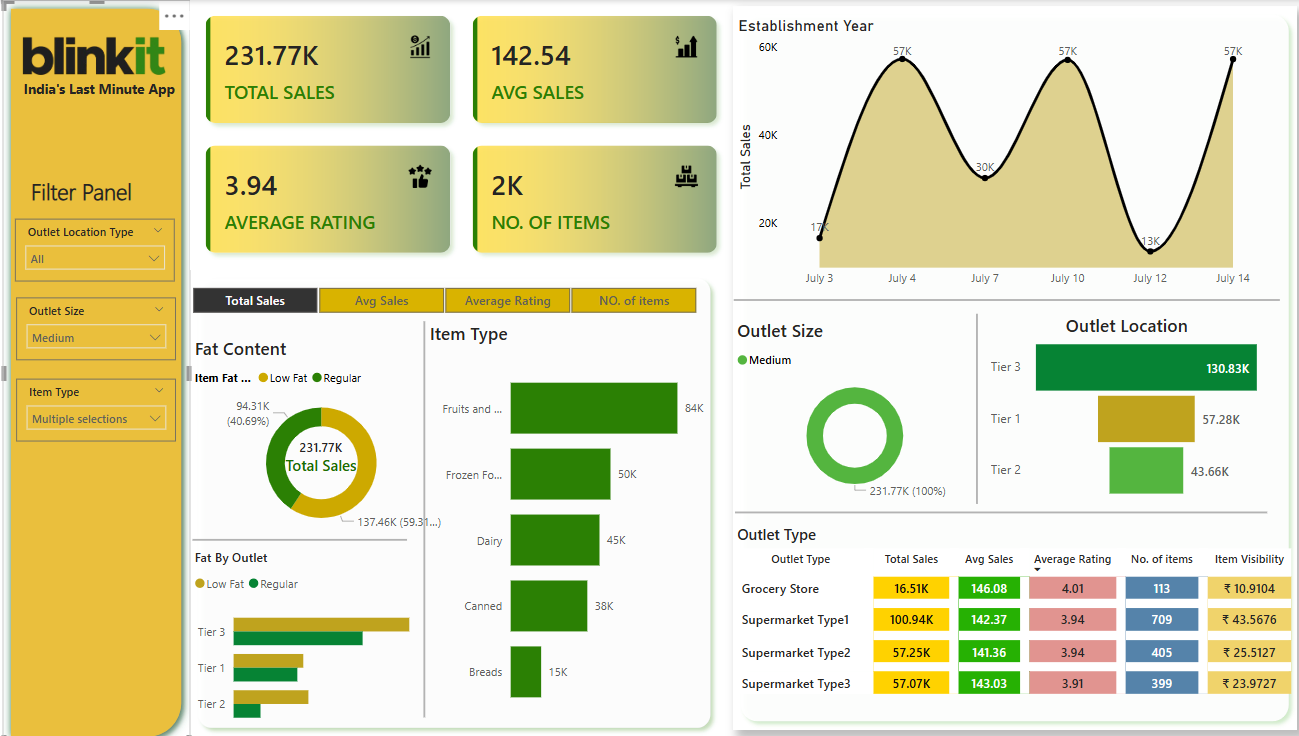

Layout of this report page (visuals, bound fields, positions):
{"tool":"powerbi","page":{"name":"Page 1","canvas":[1400,800],"ordinal":0},"visuals":[{"type":"shape","box":[8,0,201.1,800.3],"z":0},{"type":"image","box":[13.4,0,186.3,116.6],"z":1000},{"type":"textbox","box":[25.5,80.4,199.7,36.2],"z":2000},{"type":"cardVisual","fields":{"Data":["BlinkIT Grocery Data.Total Sales","BlinkIT Grocery Data.Avg Sales","BlinkIT Grocery Data.Average Rating","BlinkIT Grocery Data.NO. of items"]},"box":[209.1,0,583.1,289.5],"z":3000},{"type":"shape","box":[209.1,289.5,567,500],"z":4000},{"type":"donutChart","title":" Fat Content","fields":{"Y":["BlinkIT Grocery Data.Total Sales"],"Category":["BlinkIT Grocery Data.Item Fat Content"]},"box":[209.1,360.6,281.5,218.5],"z":5000},{"type":"slicer","fields":{"Values":["Metric.Metric"]},"box":[186.3,301.6,589.8,40.2],"z":6000},{"type":"cardVisual","fields":{"Data":["BlinkIT Grocery Data.Total Sales"]},"box":[293.6,439.7,112.6,100.5],"z":7000},{"type":"clusteredBarChart","title":"Fat By Outlet","fields":{"Y":["BlinkIT Grocery Data.Total Sales"],"Category":["BlinkIT Grocery Data.Outlet Location Type"],"Series":["BlinkIT Grocery Data.Item Fat Content"]},"box":[209.1,588.5,252,203.8],"z":8000},{"type":"shape","box":[211.8,569.7,234.6,18.8],"z":9000},{"type":"barChart","title":"Item Type","fields":{"Y":["BlinkIT Grocery Data.Total Sales"],"Category":["BlinkIT Grocery Data.Item Type"]},"box":[461.1,344.5,317.7,438.3],"z":10000},{"type":"shape","box":[790.9,6.7,605.9,776.1],"z":11000},{"type":"lineChart","title":"Establishment Year","fields":{"Y":["BlinkIT Grocery Data.Total Sales"],"Category":["BlinkIT Grocery Data.Outlet Establishment Year.Variation.Date Hierarchy.Month","BlinkIT Grocery Data.Outlet Establishment Year.Variation.Date Hierarchy.Day"]},"box":[792.2,17.4,576.4,298.9],"z":12000},{"type":"shape","box":[792.2,319,585.8,5.4],"z":13000},{"type":"donutChart","title":"Outlet Size","fields":{"Category":["BlinkIT Grocery Data.Outlet Size"],"Y":["BlinkIT Grocery Data.Total Sales"]},"box":[790.9,341.8,262.7,198.4],"z":14000},{"type":"shape","box":[422.3,339.1,76.4,443.7],"z":15000},{"type":"shape","box":[945,336.5,215.8,203.8],"z":16000},{"type":"shape","box":[352.5,344.5,215.8,424.9],"z":17000},{"type":"shape","box":[793.6,537.5,573.7,24.1],"z":18000},{"type":"funnel","title":"Outlet Location ","fields":{"Y":["BlinkIT Grocery Data.Total Sales"],"Category":["BlinkIT Grocery Data.Outlet Location Type"]},"box":[1063,336.5,301.6,203.8],"z":19000},{"type":"pivotTable","title":"Outlet Type","fields":{"Values":["BlinkIT Grocery Data.Total Sales","BlinkIT Grocery Data.Avg Sales","BlinkIT Grocery Data.Average Rating","BlinkIT Grocery Data.No.  of items","Sum(BlinkIT Grocery Data.Item Visibility)"],"Rows":["BlinkIT Grocery Data.Outlet Type"]},"box":[790.9,561.7,608.6,227.9],"z":20000},{"type":"slicer","fields":{"Values":["BlinkIT Grocery Data.Outlet Location Type"]},"box":[21.4,234.6,171.6,67],"z":21000},{"type":"slicer","fields":{"Values":["BlinkIT Grocery Data.Outlet Size"]},"box":[22.8,319,171.6,67],"z":22000},{"type":"slicer","fields":{"Values":["BlinkIT Grocery Data.Item Type"]},"box":[22.8,406.2,171.6,67],"z":23000},{"type":"textbox","box":[33.5,183.6,186.3,67],"z":24000}]}

Visuals, with their boxes on the page's 1400x800 design canvas (x1, y1, x2, y2). These are canvas units, not pixel positions in the 1299x736 screenshot, which may show the page scaled, cropped or inside an application window:
shape: {"x1": 8, "y1": 0, "x2": 209, "y2": 800}
image: {"x1": 13, "y1": 0, "x2": 200, "y2": 117}
textbox: {"x1": 26, "y1": 80, "x2": 225, "y2": 117}
cardVisual - BlinkIT Grocery Data.Total Sales x BlinkIT Grocery Data.Avg Sales: {"x1": 209, "y1": 0, "x2": 792, "y2": 290}
shape: {"x1": 209, "y1": 290, "x2": 776, "y2": 790}
" Fat Content" donutChart: {"x1": 209, "y1": 361, "x2": 491, "y2": 579}
slicer - Metric.Metric: {"x1": 186, "y1": 302, "x2": 776, "y2": 342}
cardVisual - BlinkIT Grocery Data.Total Sales: {"x1": 294, "y1": 440, "x2": 406, "y2": 540}
"Fat By Outlet" clusteredBarChart: {"x1": 209, "y1": 588, "x2": 461, "y2": 792}
shape: {"x1": 212, "y1": 570, "x2": 446, "y2": 588}
"Item Type" barChart: {"x1": 461, "y1": 344, "x2": 779, "y2": 783}
shape: {"x1": 791, "y1": 7, "x2": 1397, "y2": 783}
"Establishment Year" lineChart: {"x1": 792, "y1": 17, "x2": 1369, "y2": 316}
shape: {"x1": 792, "y1": 319, "x2": 1378, "y2": 324}
"Outlet Size" donutChart: {"x1": 791, "y1": 342, "x2": 1054, "y2": 540}
shape: {"x1": 422, "y1": 339, "x2": 499, "y2": 783}
shape: {"x1": 945, "y1": 336, "x2": 1161, "y2": 540}
shape: {"x1": 352, "y1": 344, "x2": 568, "y2": 769}
shape: {"x1": 794, "y1": 538, "x2": 1367, "y2": 562}
"Outlet Location " funnel: {"x1": 1063, "y1": 336, "x2": 1365, "y2": 540}
"Outlet Type" pivotTable: {"x1": 791, "y1": 562, "x2": 1400, "y2": 790}
slicer - BlinkIT Grocery Data.Outlet Location Type: {"x1": 21, "y1": 235, "x2": 193, "y2": 302}
slicer - BlinkIT Grocery Data.Outlet Size: {"x1": 23, "y1": 319, "x2": 194, "y2": 386}
slicer - BlinkIT Grocery Data.Item Type: {"x1": 23, "y1": 406, "x2": 194, "y2": 473}
textbox: {"x1": 34, "y1": 184, "x2": 220, "y2": 251}
